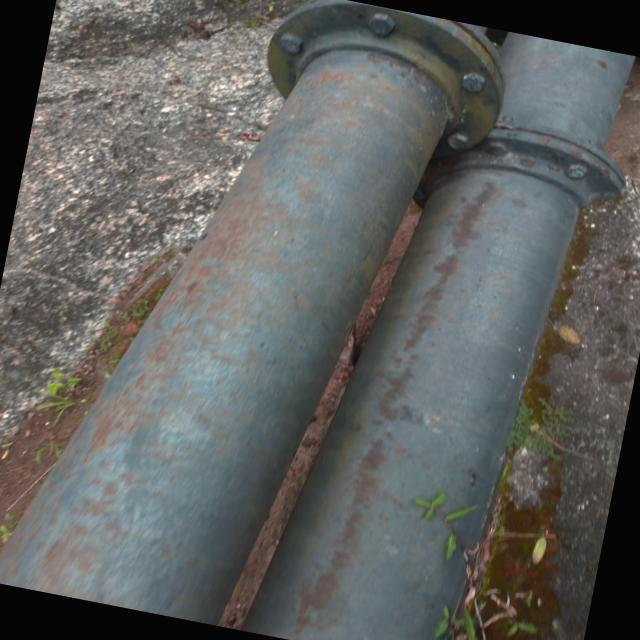gas: (0, 6, 491, 620), (249, 47, 631, 640)
